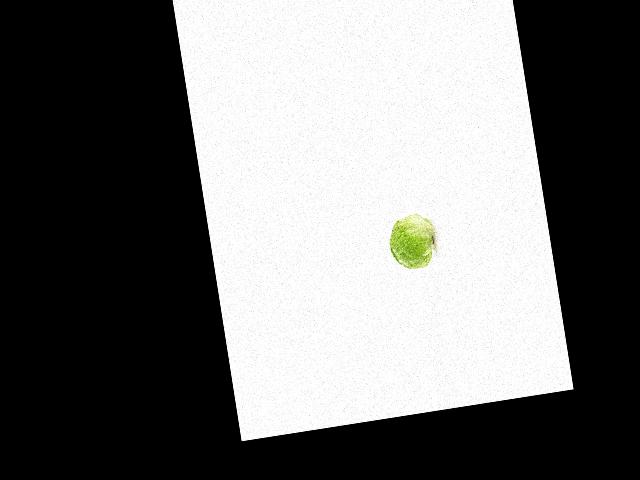lettuce: (383, 211, 437, 279)
